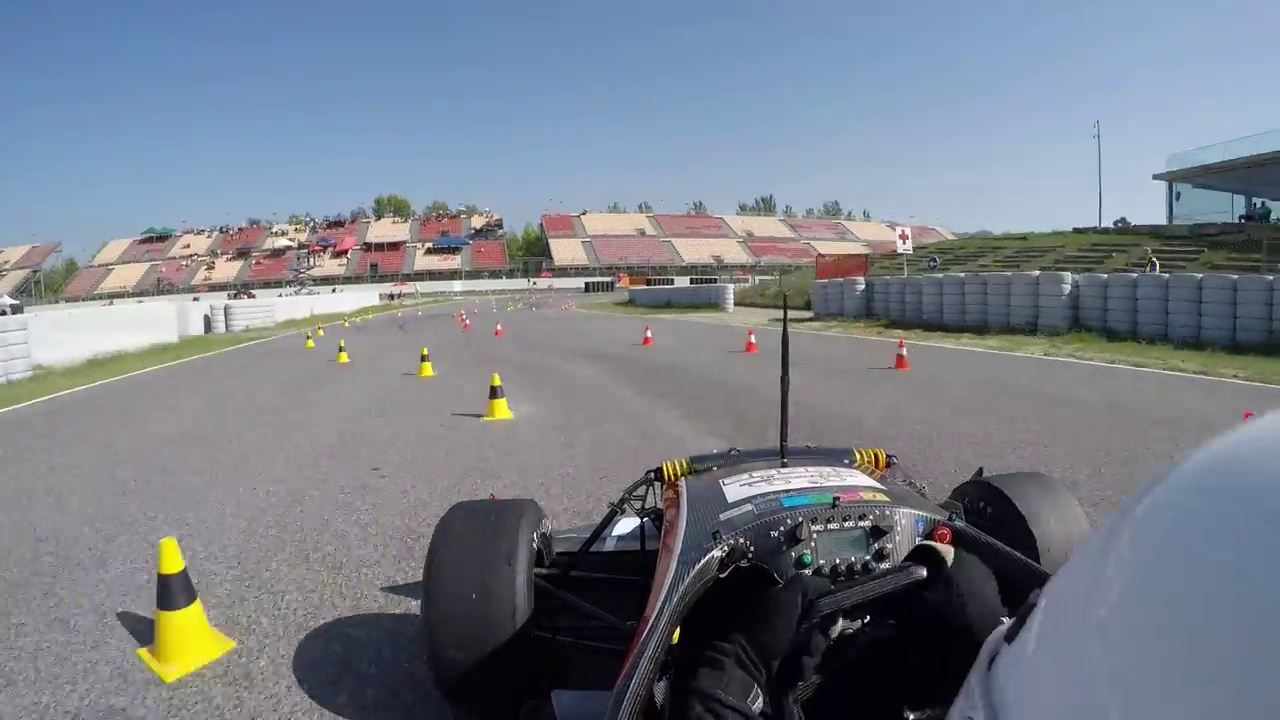Cone: (141, 536, 220, 681), (481, 368, 515, 418), (417, 344, 438, 379), (891, 336, 911, 372)
